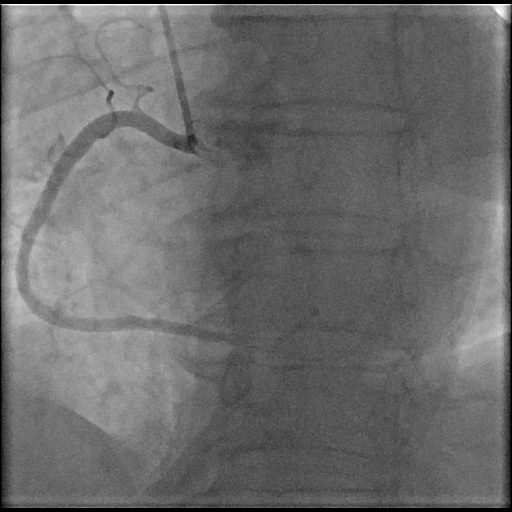RCA: (16, 112, 240, 342)
catherter: (158, 4, 194, 140)
